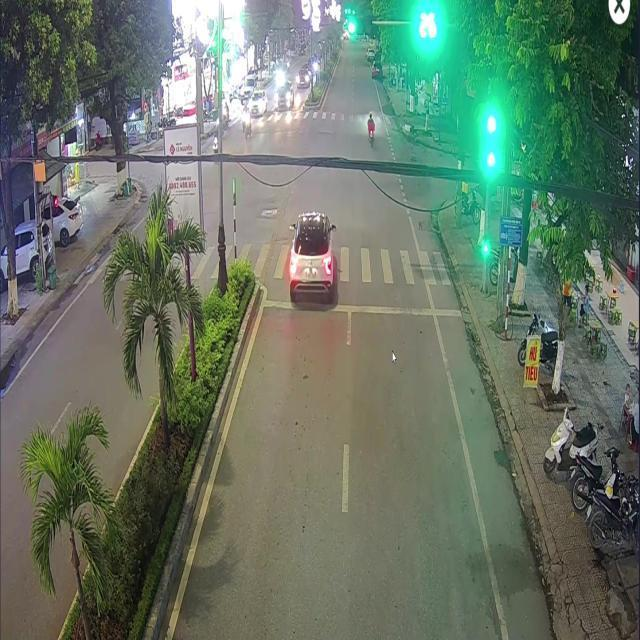car: (287, 210, 335, 302)
green_light: (347, 16, 371, 33), (486, 131, 495, 167), (483, 234, 487, 253)
motobike: (367, 122, 373, 145)
stop_line: (263, 299, 460, 317)
